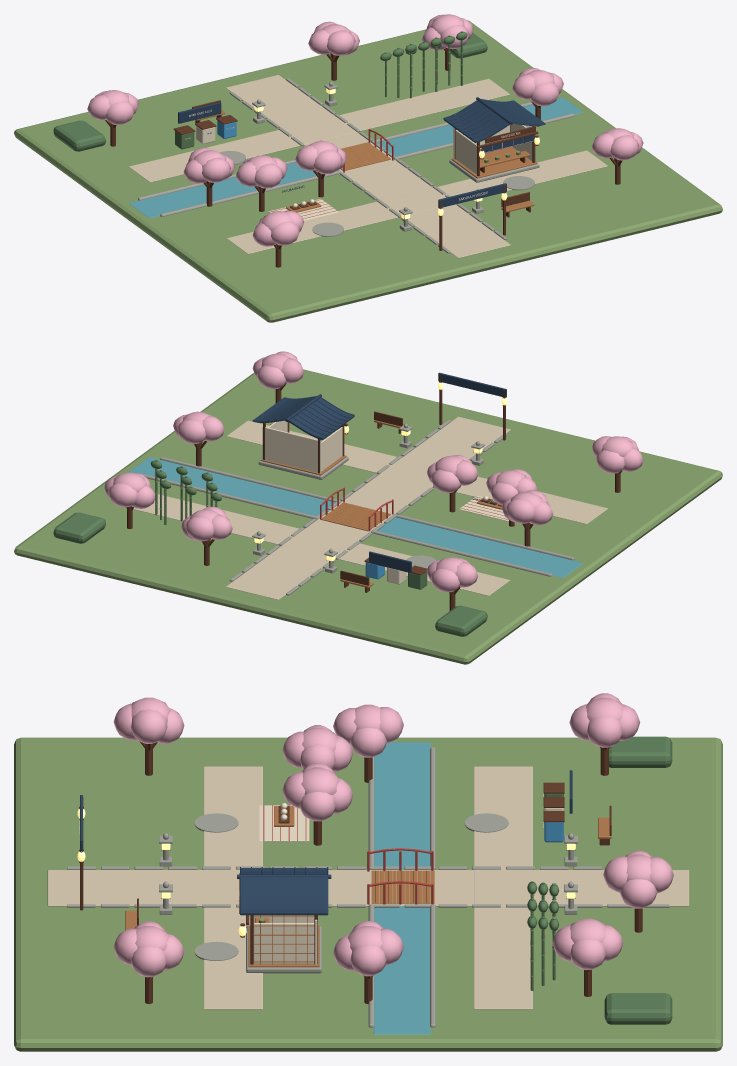
File: yatai-sakura.glb
The picture shows the model from 3 angles, top to bottom: view 1: azimuth 30°, elevation 25°; view 2: azimuth 150°, elevation 25°; view 3: azimuth 270°, elevation 25°; orthographic projection. The views are drawn at different scales.
Parts seen in each view (by area): view 1: sakura_District moss, sakura_District path, sakura_District pink, sakura_District stone, sakura_District water, sakura_District indigo, sakura_District cedar, sakura_District leaf, sakura_District timber, sakura_District paper; view 2: sakura_District moss, sakura_District path, sakura_District pink, sakura_District water, sakura_District stone, sakura_District leaf, sakura_District indigo, sakura_District paper, sakura_District cedar, sakura_District timber, sakura_District red; view 3: sakura_District moss, sakura_District path, sakura_District pink, sakura_District water, sakura_District stone, sakura_District leaf, sakura_District indigo, sakura_District paper, sakura_District timber, sakura_District cedar, sakura_District red.
Part boxes in pixels (x1,y1,x2,y2): sakura_District moss: (14,20,722,322); sakura_District path: (129,75,607,258); sakura_District pink: (87,14,643,246); sakura_District stone: (138,78,574,253); sakura_District water: (129,97,583,218); sakura_District indigo: (178,97,545,208); sakura_District cedar: (105,48,622,267); sakura_District leaf: (53,31,520,162); sakura_District timber: (196,110,538,215); sakura_District paper: (185,109,533,220); sakura_District moss: (14,369,722,664); sakura_District path: (133,416,608,599); sakura_District pink: (104,351,643,592); sakura_District water: (129,457,583,577); sakura_District stone: (139,420,574,595); sakura_District leaf: (53,460,487,636); sakura_District indigo: (252,372,506,572); sakura_District paper: (262,420,508,584); sakura_District cedar: (126,374,622,610); sakura_District timber: (260,382,505,587); sakura_District red: (320,487,508,531); sakura_District moss: (14,737,722,1051); sakura_District path: (47,766,689,1009); sakura_District pink: (113,693,673,977); sakura_District water: (373,742,430,1034); sakura_District stone: (67,747,669,1027); sakura_District leaf: (259,736,672,1024); sakura_District indigo: (80,770,572,930); sakura_District paper: (79,793,563,964); sakura_District timber: (79,806,611,967); sakura_District cedar: (79,741,642,1003); sakura_District red: (263,805,433,904).
Bounding box in the file's own units: 43 × 5.9 × 42.
